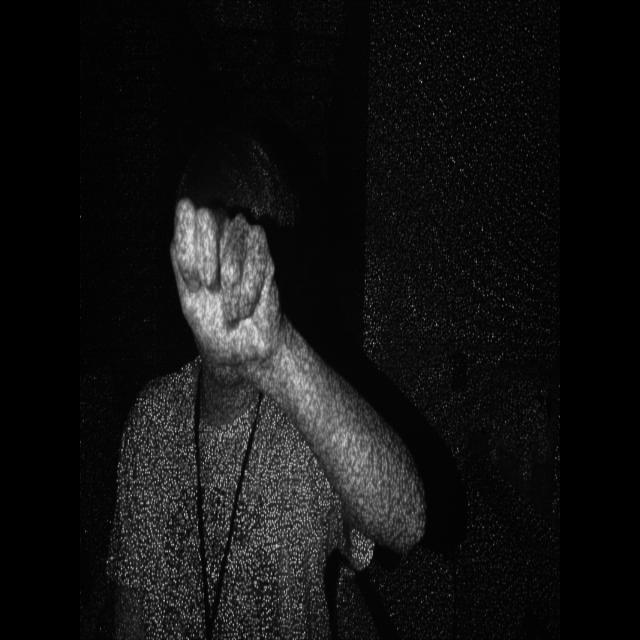N: (166, 184, 286, 383)
